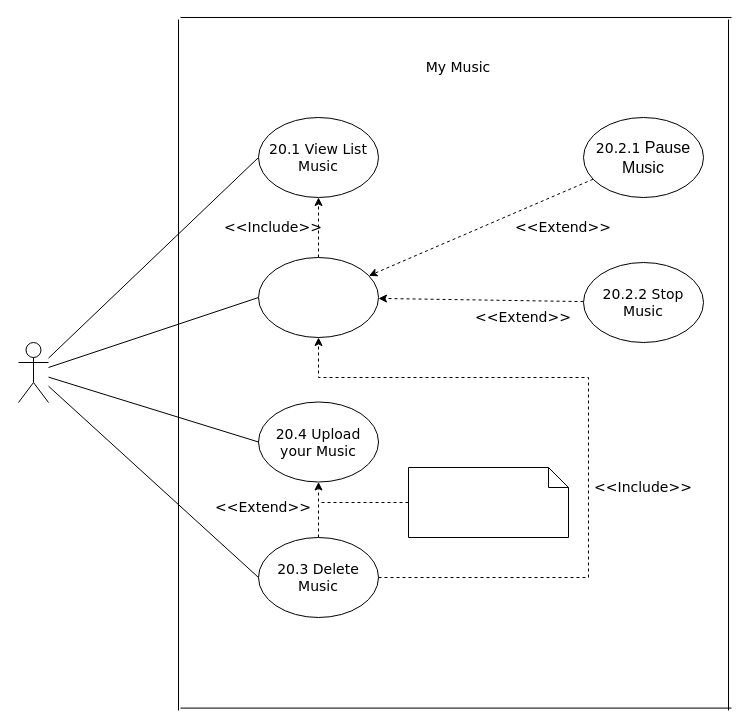
Some shapes in this 749 by 728 pixel diagram are drawn without their labels. Each missing label, with the centre of its shape:
"20.2 Choose Music" goes at point (318, 297).
"Extension Point: Muốn xóa bài hát" goes at point (488, 502).
"User" goes at point (33, 372).
